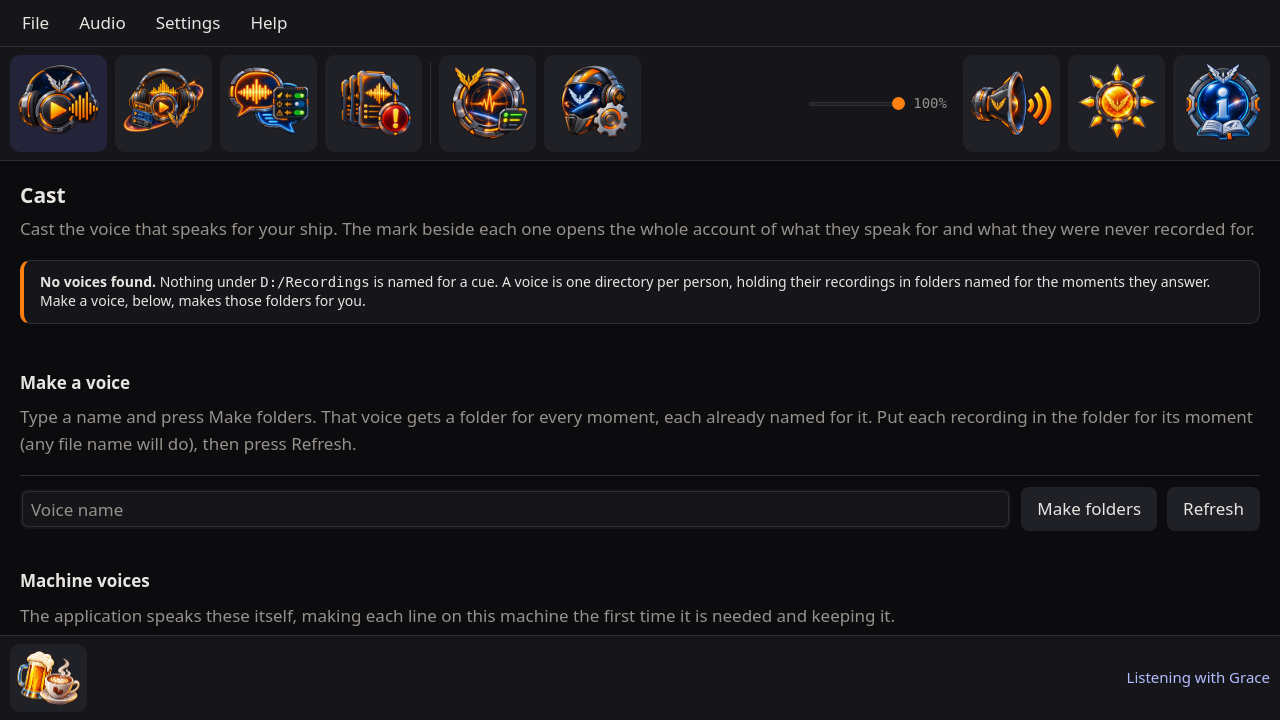
Test: the shell › switches the pane under the band rather than opening a dialog over it
Click the button named "Status" at [488, 104], box [439,55,536,152]
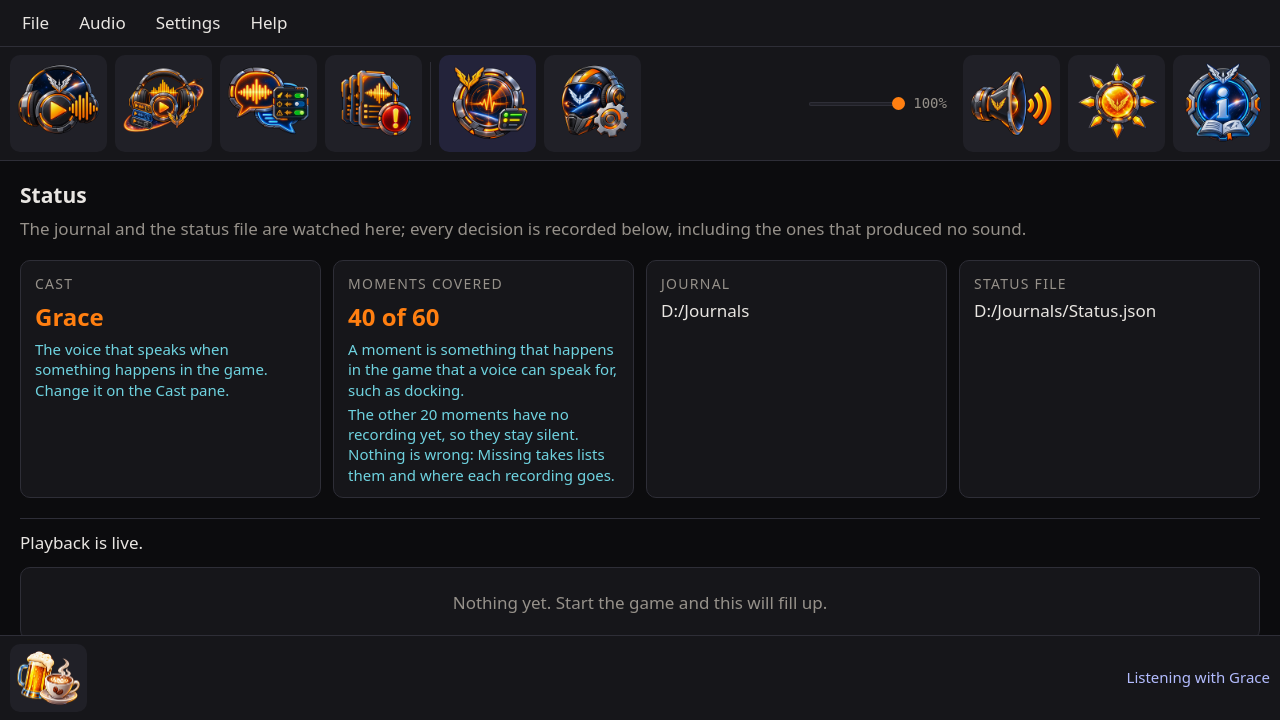
Now the heading "Status" is shown, box [20,181,87,209]
Click the button named "Missing takes" at [374, 104], box [325,55,422,152]
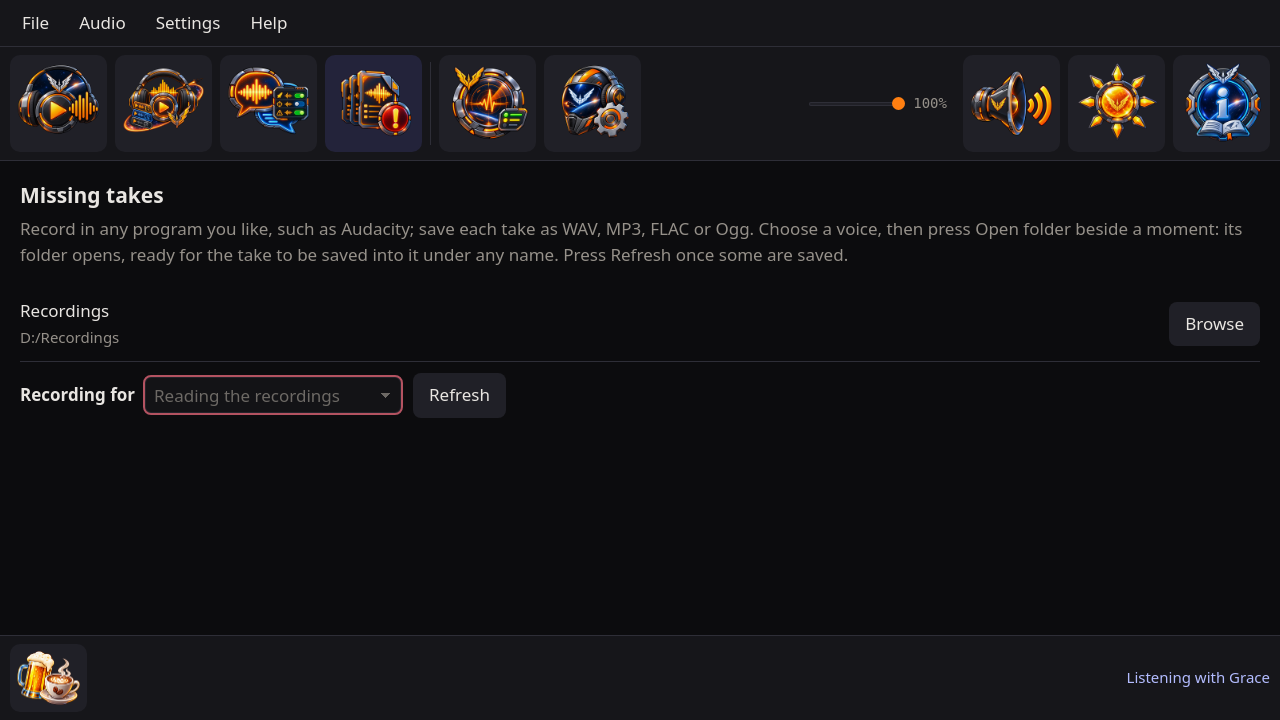
Now the heading "Missing takes" is shown, box [20,181,164,209]
Click the button named "Audition" at [164, 104], box [115,55,212,152]
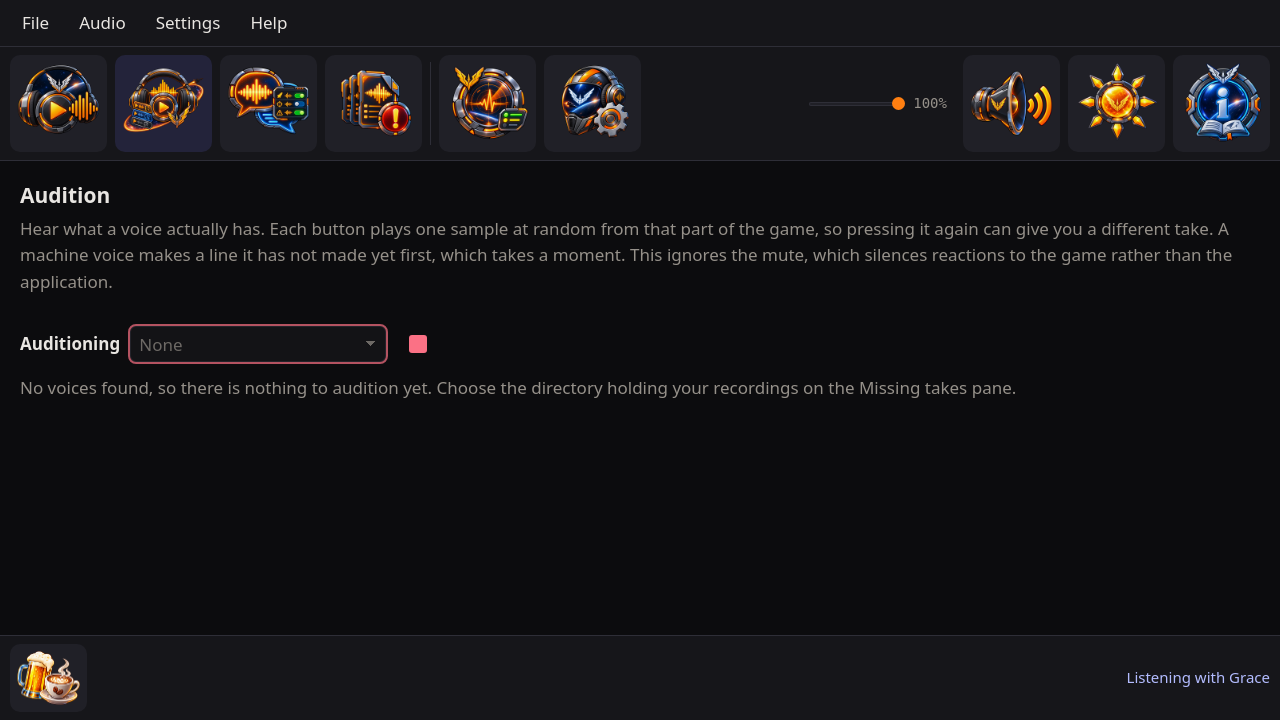
Now the heading "Audition" is shown, box [20,181,110,209]
Click the button named "Settings" at [592, 104], box [544,55,641,152]
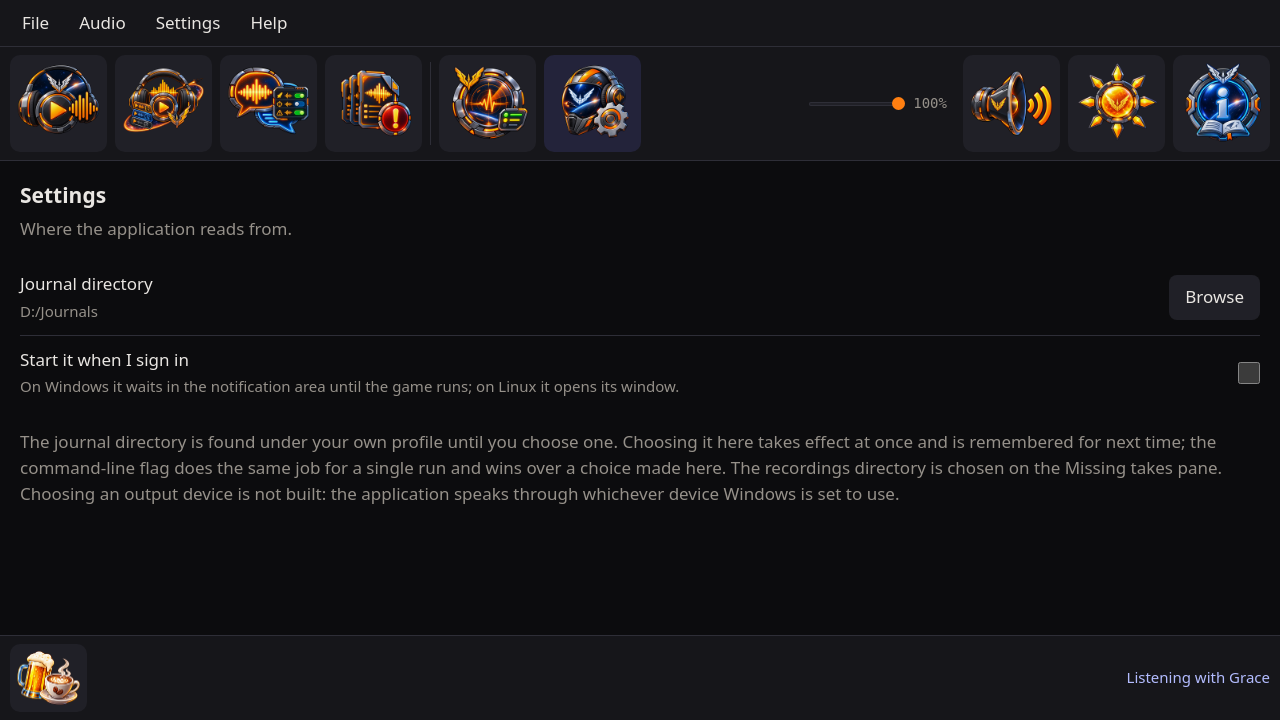
Now the heading "Settings" is shown, box [20,181,106,209]
Click the button named "Guide" at [1222, 104], box [1173,55,1270,152]
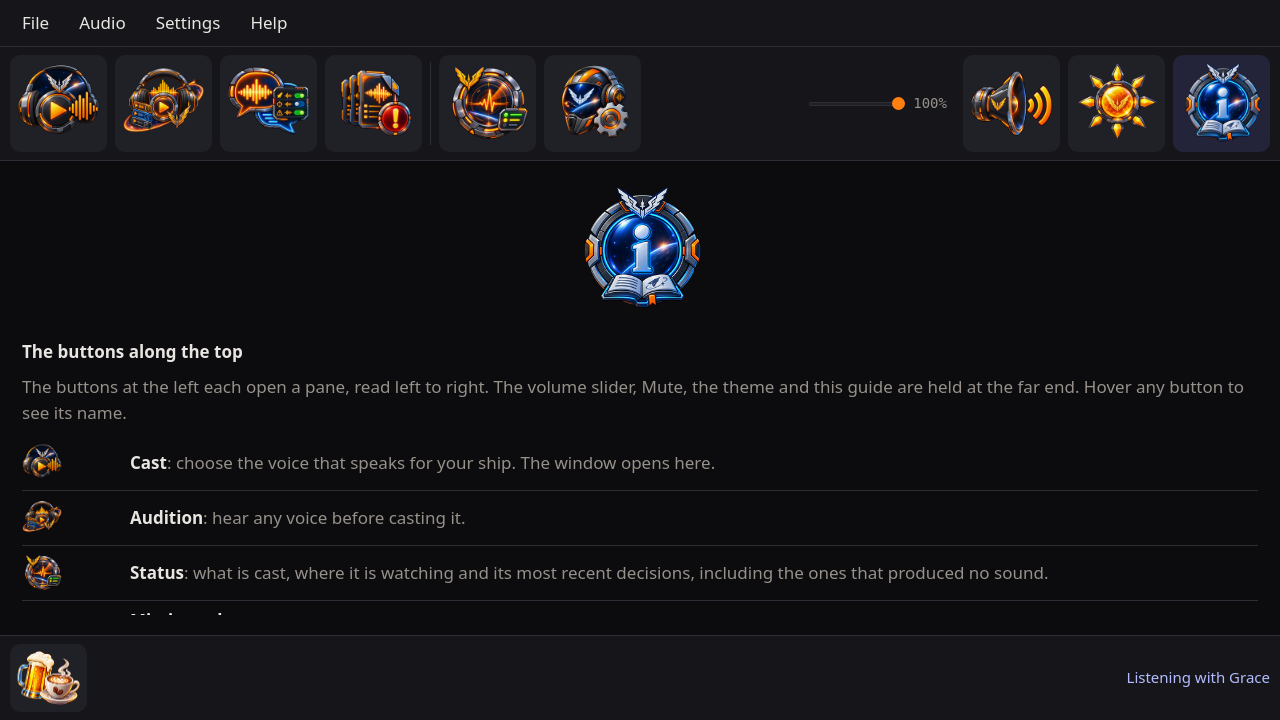
Now the heading "The buttons along the top" is shown, box [22,340,243,363]
